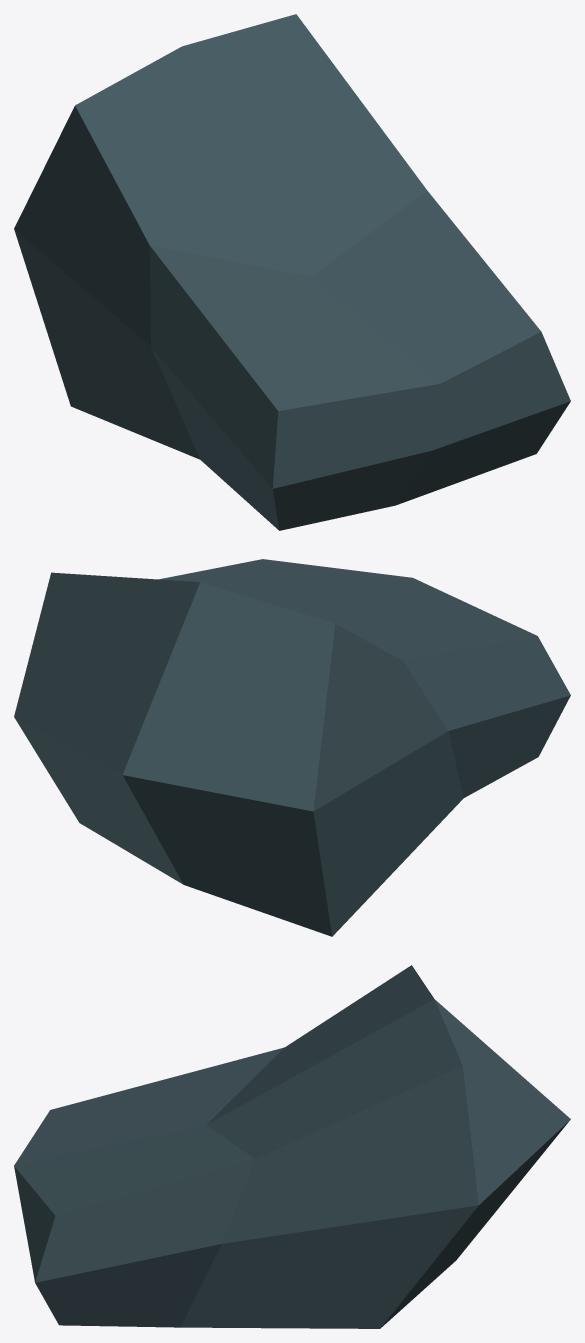
Rendered from pedra2.fbx.
The picture shows the model from 3 angles, top to bottom: view 1: azimuth 30°, elevation 25°; view 2: azimuth 150°, elevation 25°; view 3: azimuth 270°, elevation 25°; orthographic projection. The views are drawn at different scales.
Parts seen in each view (by area): view 1: pedra2; view 2: pedra2; view 3: pedra2.
Boxes of the visible parts, x1=… form: pedra2: x1=14, y1=14, x2=570, y2=530; pedra2: x1=14, y1=559, x2=570, y2=936; pedra2: x1=14, y1=965, x2=570, y2=1328.
Size of the model in its own units: 16.3 by 16.36 by 28.11.
